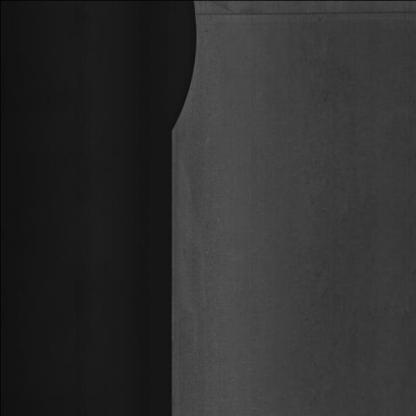crescent_gap: (152, 0, 200, 138)
welding_line: (192, 2, 416, 29)
